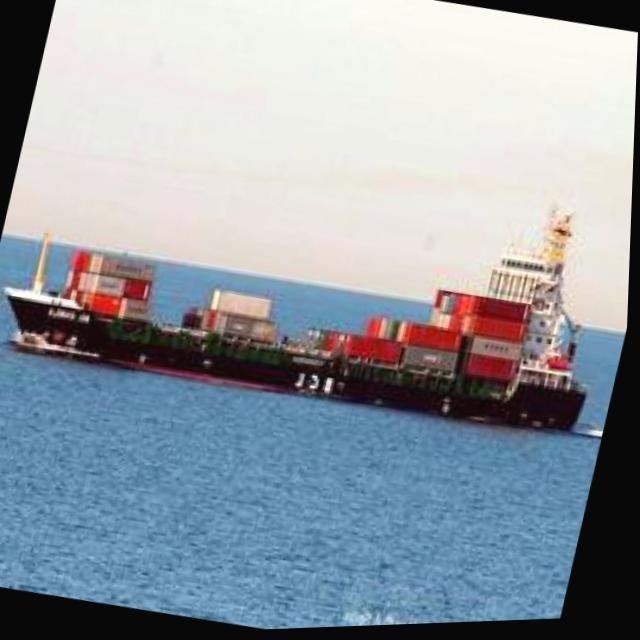ship2: (5, 208, 592, 436)
